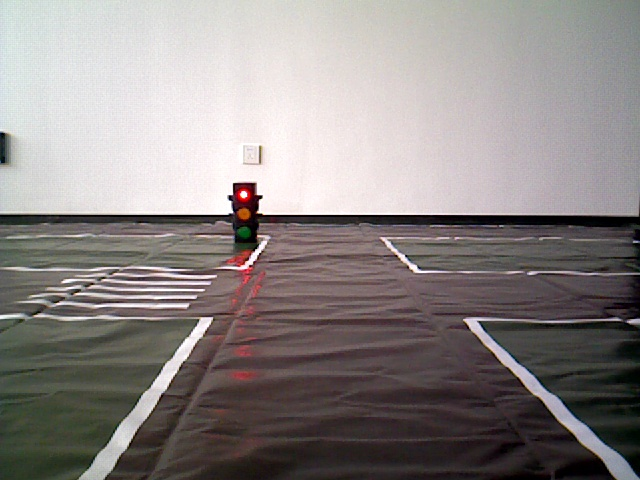red: (232, 184, 258, 242)
